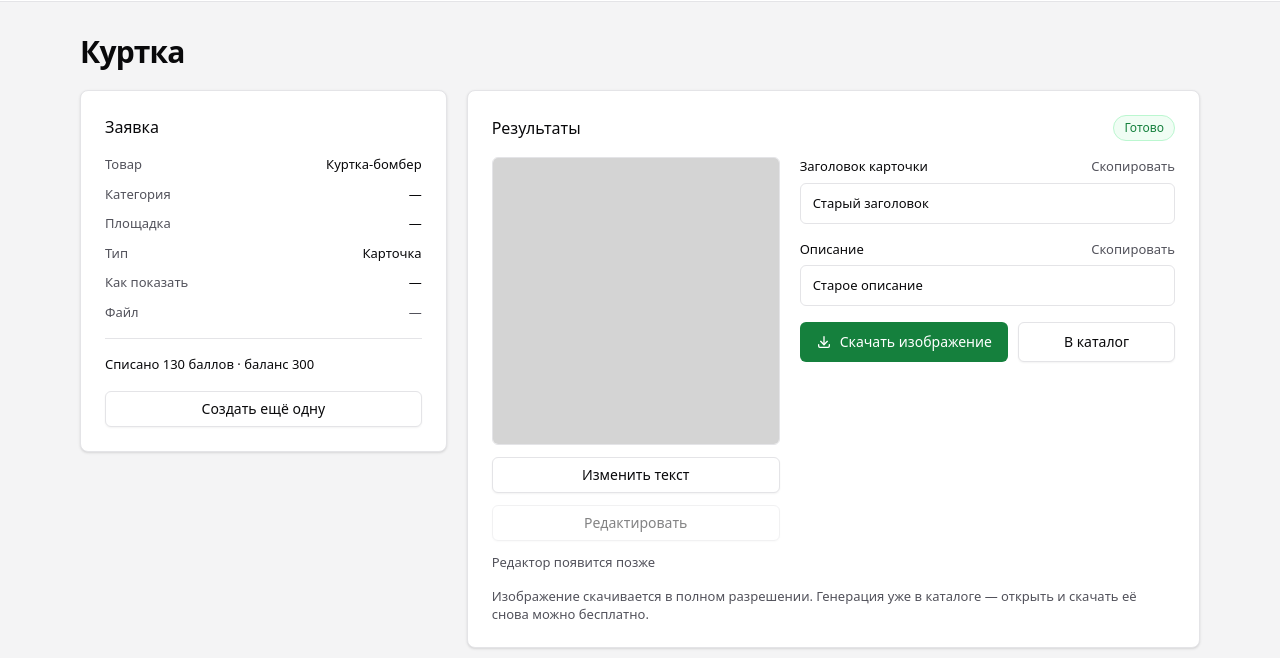
Test: Экран результата: правка текста карточки (B7.6) › форма наполняется режимом чтения: тексты, свойства, выбор гарнитуры по каждой роли
What coordinates should you click on to do the following:
click the button "Изменить текст"
I would click on:
 (636, 475)
Its box is [492,457,780,493].
(page scrolled)
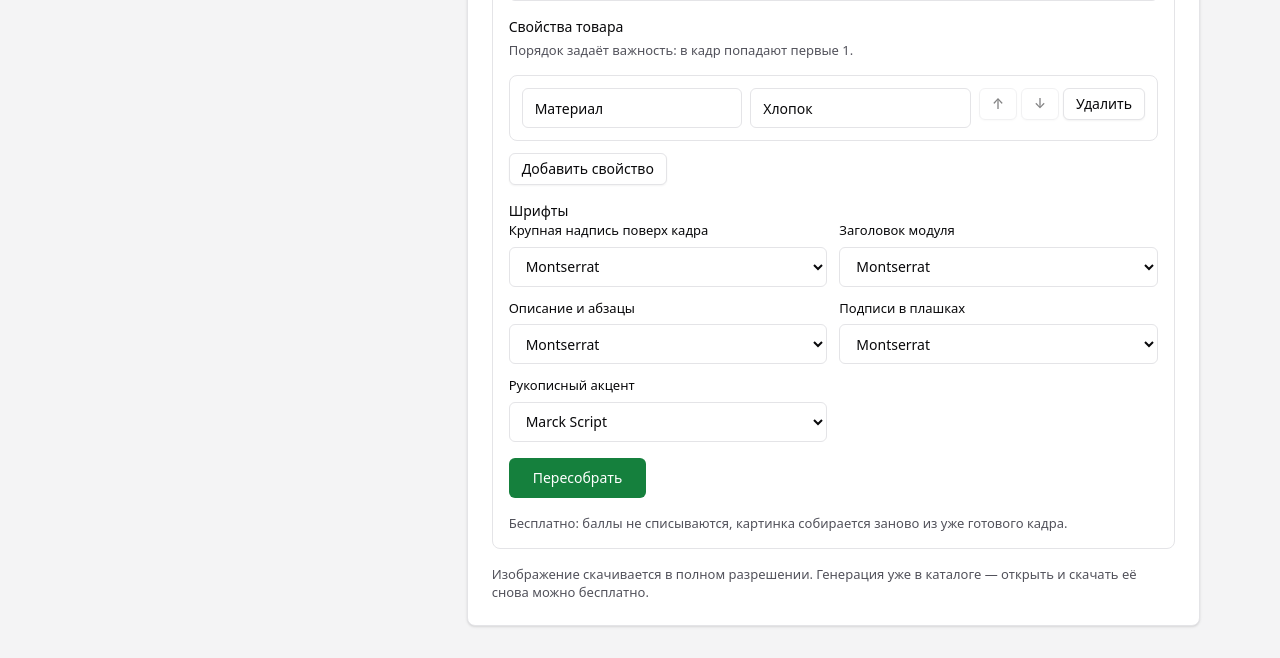
Result: the field named "Значение свойства 1" holds "Хлопок" at [750,88,971,128]
Result: the dropdown labelled "Рукописный акцент" shows "Marck Script" at [509,402,827,442]
Result: the dropdown labelled "Описание и абзацы" shows "Montserrat" at [509,324,827,364]
